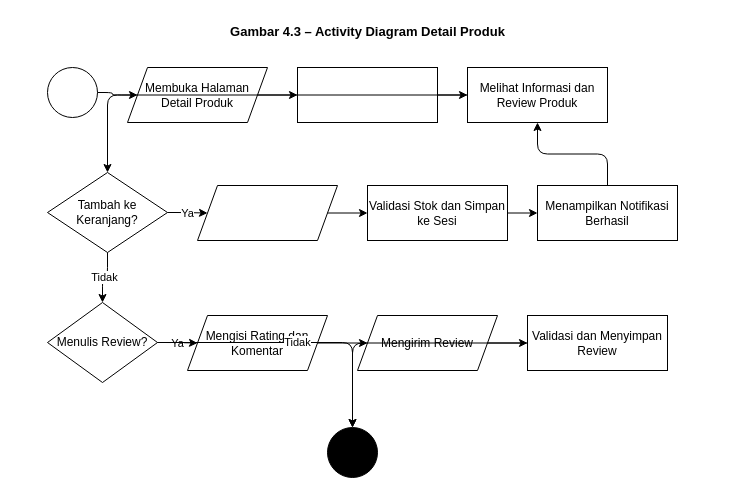
Some shapes in this 734 by 495 pixel diagram are drawn without their labels. Each missing label, with the box of its shape:
END: (326, 426, 378, 478)
Memilih Jumlah dan Klik Tambah: (196, 184, 338, 240)
Memuat Data Produk dan Review: (296, 66, 438, 122)
START: (46, 66, 98, 118)
